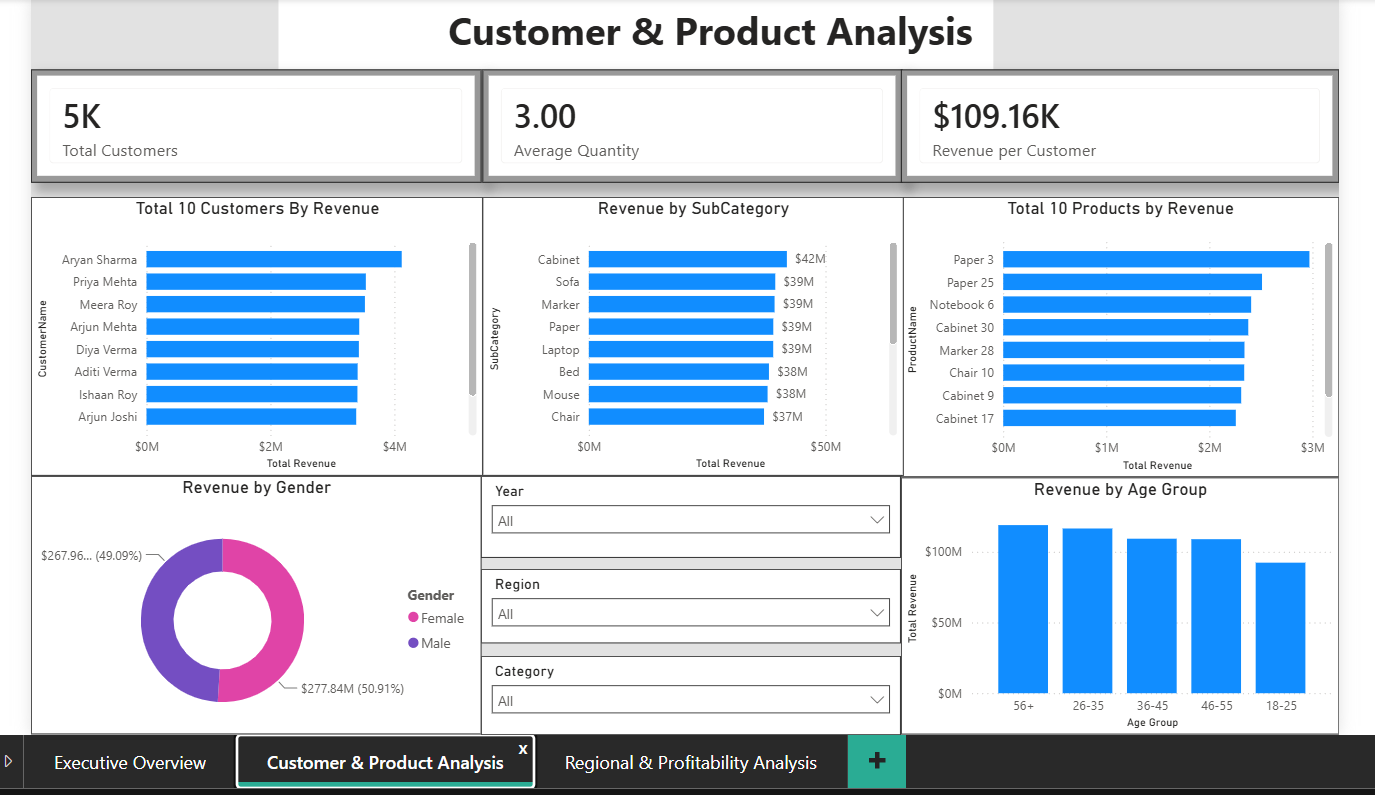

Layout of this report page (visuals, bound fields, positions):
{"tool":"powerbi","page":{"name":"Customer & Product Analysis","canvas":[1280,720],"ordinal":1},"visuals":[{"type":"textbox","box":[242.3,0,699.6,69.7],"z":0},{"type":"cardVisual","fields":{"Data":["sales.Total Customers"]},"box":[0,69.7,440.6,110.5],"z":1000},{"type":"cardVisual","fields":{"Data":["products.Average Quantity"]},"box":[442.1,69.7,410.3,110.5],"z":2000},{"type":"cardVisual","fields":{"Data":["products.Revenue per Customer"]},"box":[851,69.7,428.5,110.5],"z":3000},{"type":"clusteredBarChart","title":"Total 10 Customers By Revenue","fields":{"Category":["customers.CustomerName"],"Y":["sales.Total Revenue"]},"box":[0,193.8,442.1,272.6],"z":4000},{"type":"clusteredBarChart","title":"Total 10 Products by Revenue","fields":{"Category":["products.ProductName"],"Y":["sales.Total Revenue"]},"box":[851,193.8,428.5,274.1],"z":5000},{"type":"donutChart","title":" Revenue by Gender","fields":{"Category":["customers.Gender"],"Y":["sales.Total Revenue"]},"box":[0,466.4,440.6,252.9],"z":6000},{"type":"clusteredColumnChart","title":" Revenue by Age Group","fields":{"Y":["sales.Total Revenue"],"Category":["customers.Age Group"]},"box":[851,467.9,428.5,251.4],"z":7000},{"type":"clusteredBarChart","title":" Revenue by SubCategory","fields":{"Category":["products.SubCategory"],"Y":["sales.Total Revenue"]},"box":[442.1,193.8,411.9,272.6],"z":8000},{"type":"slicer","fields":{"Values":["sales.OrderDate.Variation.Date Hierarchy.Year"]},"box":[440.6,466.4,410.3,80.3],"z":9000},{"type":"slicer","fields":{"Values":["customers.Region"]},"box":[440.6,557.2,410.3,72.7],"z":10000},{"type":"slicer","fields":{"Values":["products.Category"]},"box":[440.6,642,410.3,77.2],"z":11000}]}

Visuals, with their boxes in screenshot pixels (x1, y1, x2, y2):
textbox: bbox=[273, 0, 988, 68]
cardVisual - sales.Total Customers: bbox=[25, 68, 475, 181]
cardVisual - products.Average Quantity: bbox=[477, 68, 896, 181]
cardVisual - products.Revenue per Customer: bbox=[895, 68, 1332, 181]
"Total 10 Customers By Revenue" clusteredBarChart: bbox=[25, 194, 477, 473]
"Total 10 Products by Revenue" clusteredBarChart: bbox=[895, 194, 1332, 475]
" Revenue by Gender" donutChart: bbox=[25, 473, 475, 731]
" Revenue by Age Group" clusteredColumnChart: bbox=[895, 475, 1332, 731]
" Revenue by SubCategory" clusteredBarChart: bbox=[477, 194, 898, 473]
slicer - sales.OrderDate.Variation.Date Hierarchy.Year: bbox=[475, 473, 895, 555]
slicer - customers.Region: bbox=[475, 566, 895, 640]
slicer - products.Category: bbox=[475, 652, 895, 731]
